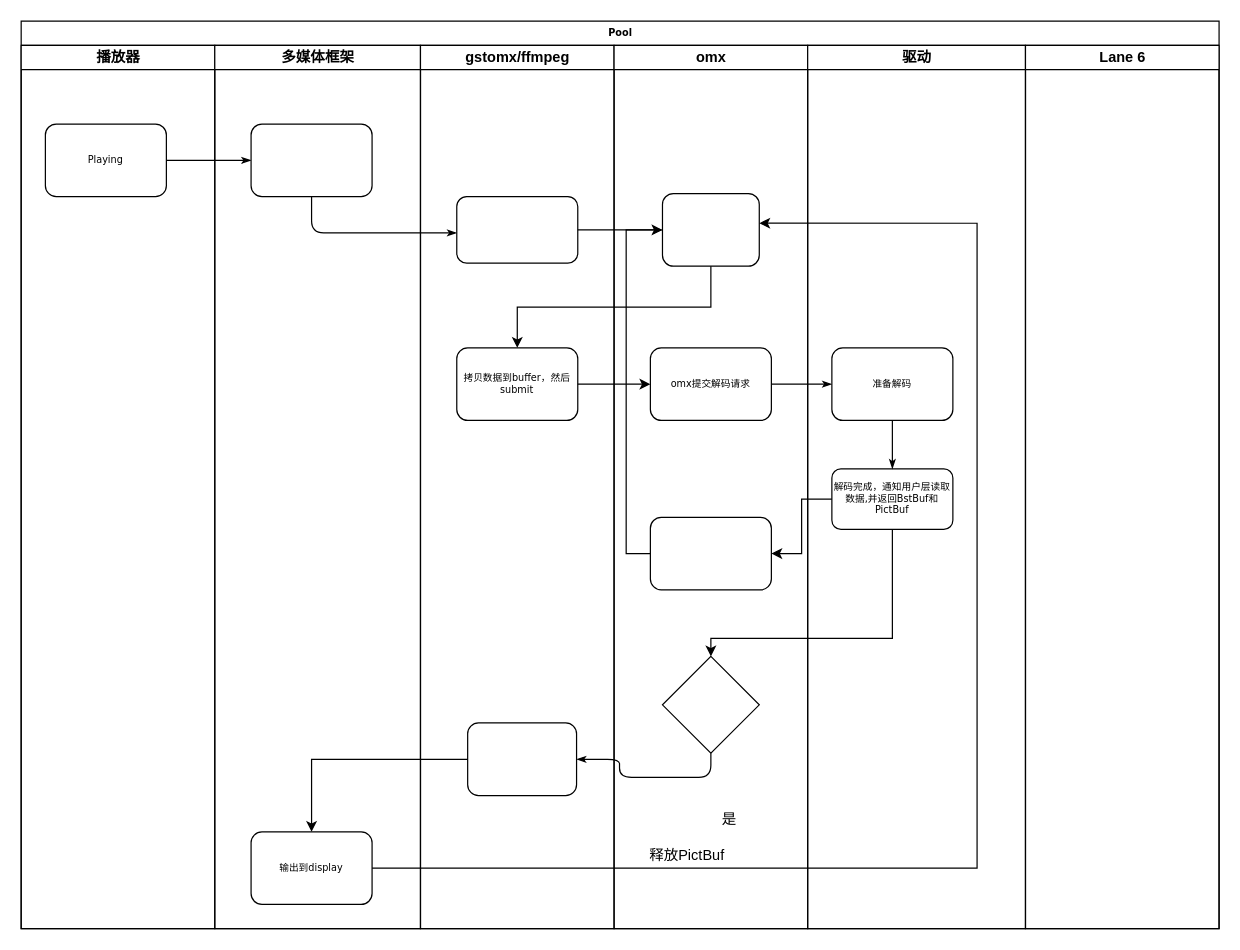
Image size: 1240x950. Some labels were removed from this diagram. Here are the shapes that lost their labels. From the top down, the centre of each, then its label:
(311,160): 解析数据，并提交到解码器
(517,229): 向omx申请buffer(BstrBuf、PictBuf)
(710,229): omx申请buffer并map
(710,553): 释放BstrBuf
(710,704): 是否可以送显?
(521,759): 提交解码完数据
